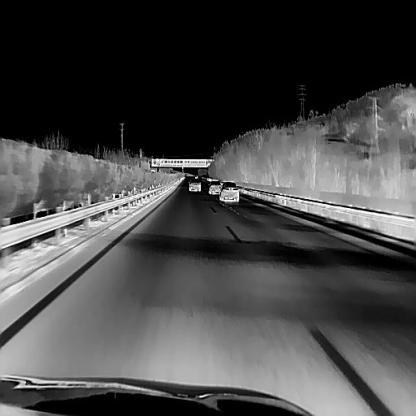car: (219, 180, 239, 201), (208, 181, 220, 194), (189, 177, 200, 191)
